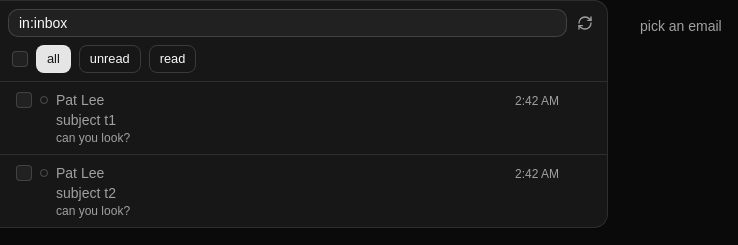
Test case: Mail multi-select › selects all and clears
Click the checkbox named "select all".
click(20, 59)  # box [12, 51, 28, 67]
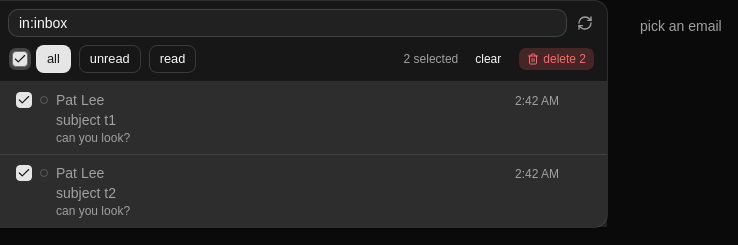
expect the text "2 selected" is shown: met, box [404, 51, 458, 67]
Click the button "clear".
click(488, 59)  # box [466, 47, 510, 71]
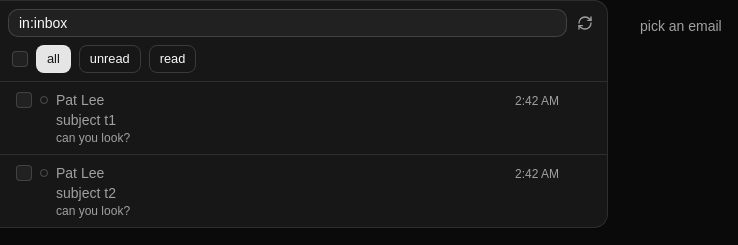
expect the text "2 selected" is gone: met
